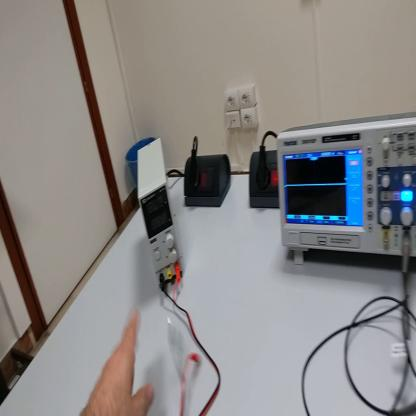hand: (81, 312, 154, 416)
oscilloscope: (277, 113, 416, 271)
oscilloscope probe tip: (391, 402, 415, 416)
power supply: (136, 130, 184, 295)
socket: (185, 151, 233, 210), (250, 150, 281, 213)
